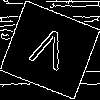V: (24, 25, 71, 81)
